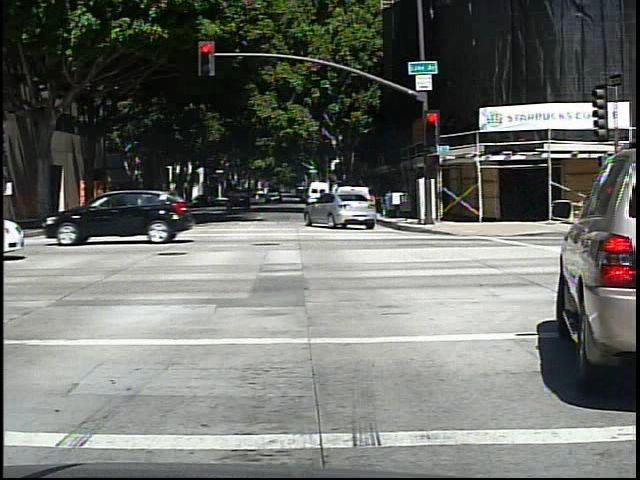person: (98, 185, 113, 219)
